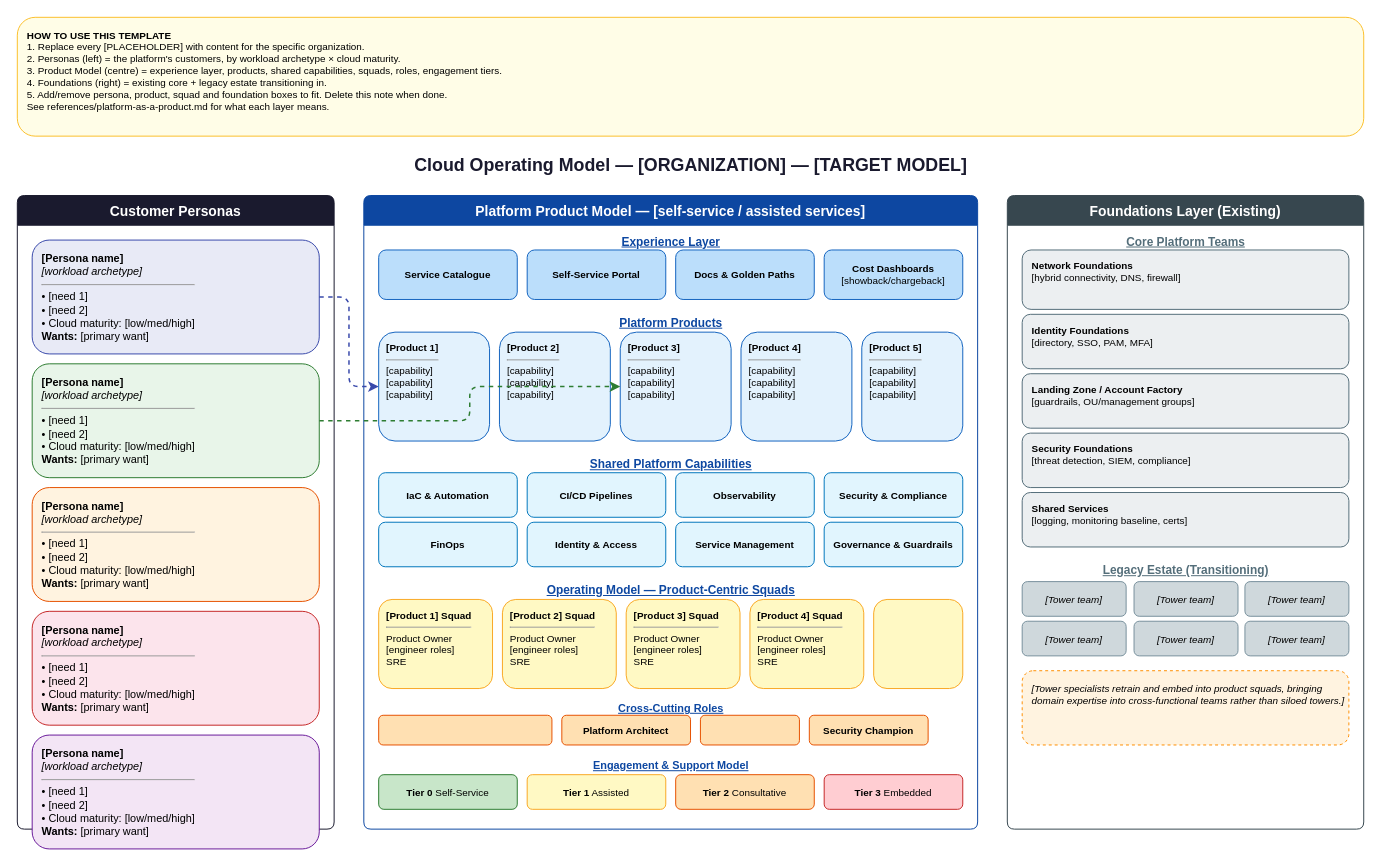
This 1381x866 diagram has some shape labels left out. Each missing label, with the centre of its shape:
"[DevEx] Squad Product Owner [roles]" goes at (918,643).
"FinOps Lead" goes at (749,729).
"Head of Cloud Platform" goes at (465,729).
